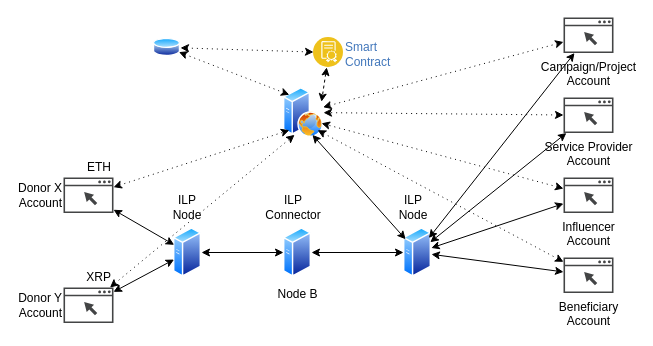
This 653x346 diagram has some shape labels left out. Here are the shapes that lost their labels. From the top down, the centre of each, then its label:
point 166,47: database
point 303,112: Web App + REST API
point 187,252: Node A
point 417,252: Node C
